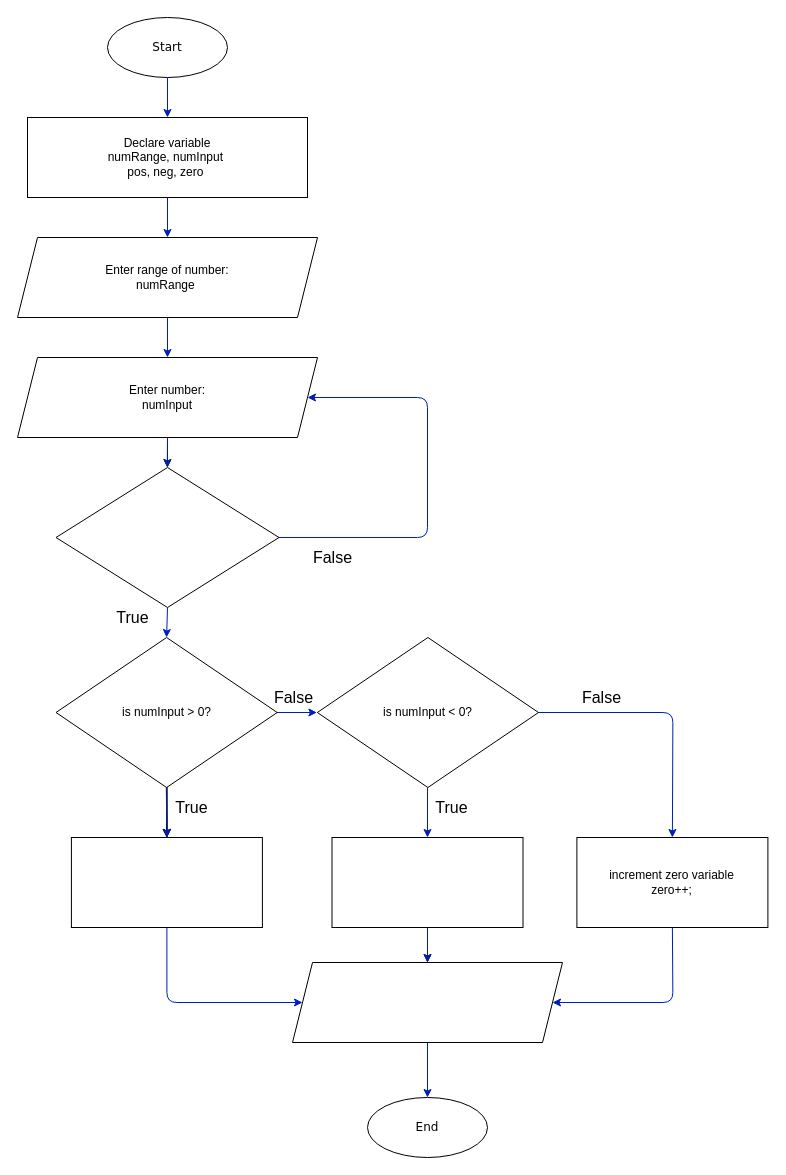
The diagram is 786 pixels wide and 1175 high, and some of its shapes have lost their labels. Here are the shapes that lost their labels. From the top down, the box of each, then its label:
(55, 466, 279, 608): is i <= numRange?
(70, 836, 262, 928): increment pos variable pos++;
(331, 836, 523, 928): increment neg variable neg++;
(292, 962, 562, 1042): Output the frequency of positive, negative, and zero number.
